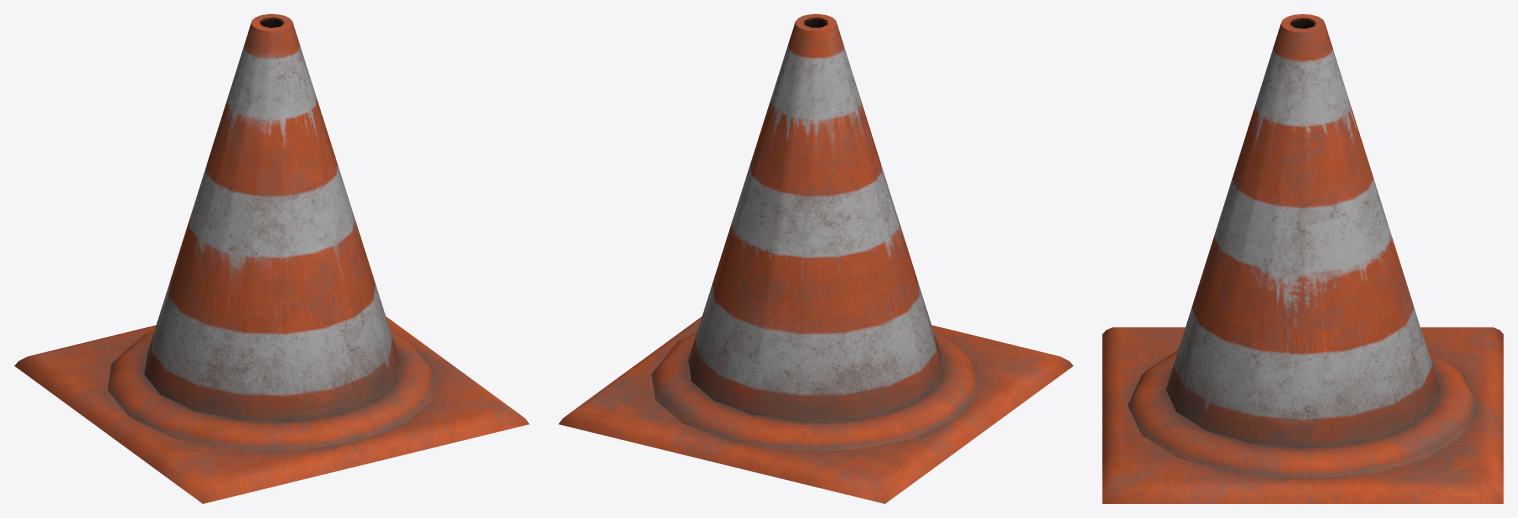
Rendered from road_cone.glb.
3 renders of one model, left to right at view 1: azimuth 30°, elevation 25°; view 2: azimuth 150°, elevation 25°; view 3: azimuth 270°, elevation 25°, orthographic. The views are drawn at different scales.
Visible parts, largest first — view 1: Cone_Low.004; view 2: Cone_Low.004; view 3: Cone_Low.004.
Boxes of the visible parts, x1,y1,x2,y2 form: Cone_Low.004: (14,14,529,503); Cone_Low.004: (558,14,1073,503); Cone_Low.004: (1102,14,1503,503).
Size of the model in its own units: 0.3335 by 0.3631 by 0.3335.
Materials: 1 (1 with a texture image).
